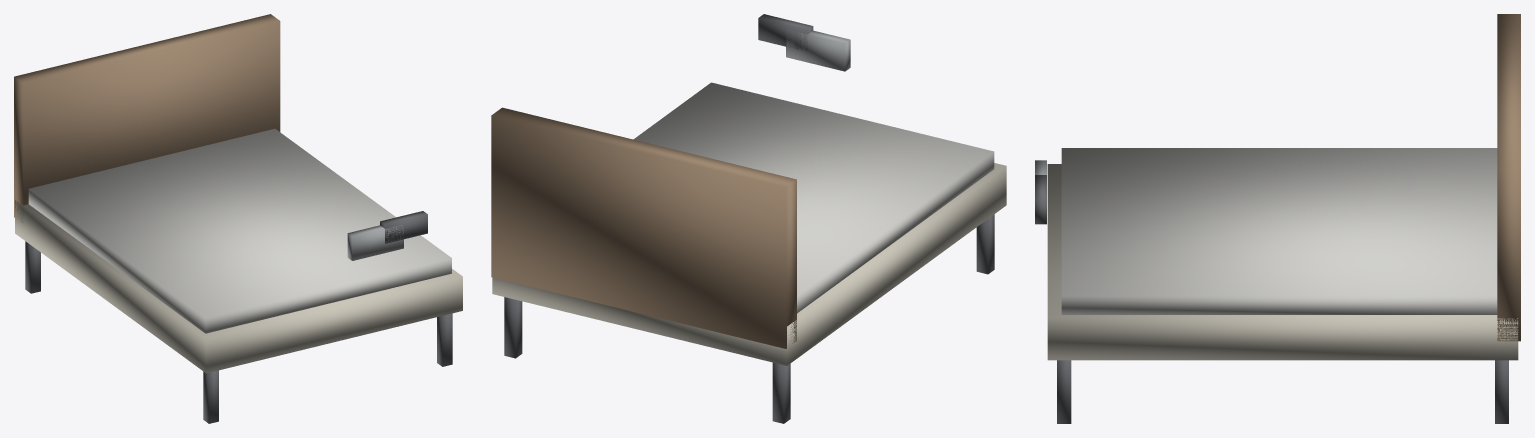
Rendered from double_bed__weathered.glb.
The picture shows the model from 3 angles, left to right: view 1: azimuth 30°, elevation 25°; view 2: azimuth 150°, elevation 25°; view 3: azimuth 270°, elevation 25°; orthographic projection. The views are drawn at different scales.
Parts seen in each view (by area): view 1: world; view 2: world; view 3: world.
Boxes of the visible parts, box(x1,y1,x2,y2) form: world: box(14, 14, 462, 423); world: box(491, 14, 1006, 423); world: box(1035, 14, 1520, 423).
Size of the model in its own units: 1.55 by 1.22 by 2.06.
